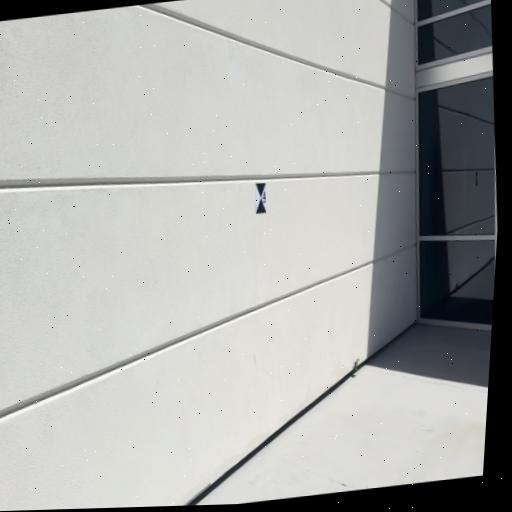target4: (253, 182, 269, 215)
